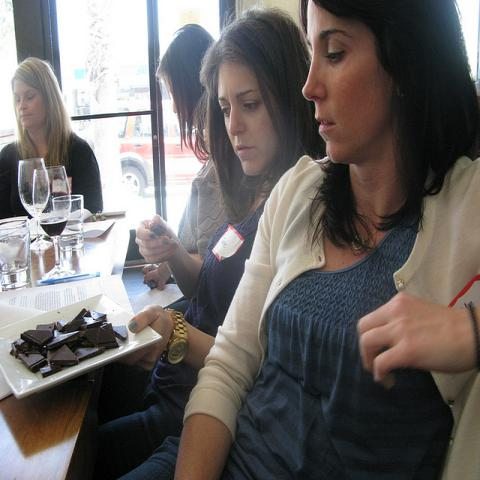car: (112, 64, 206, 198)
